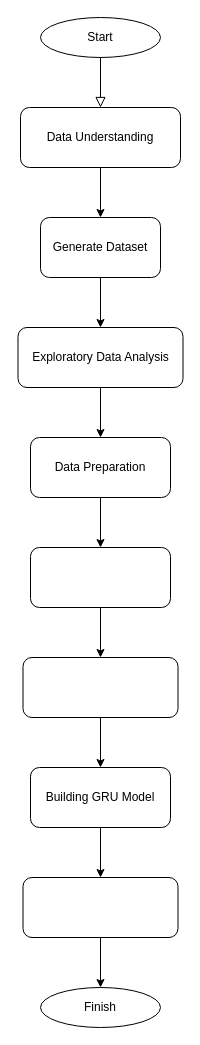
Image size: 200x1045. Some labels were removed from this diagram. The box of each missing label's shape, as (x1, y1, x2, y2) in pixels:
Building LSTM Model: (30, 546, 170, 608)
Evaluating GRU Model: (22, 876, 178, 938)
Evaluating LSTM Model: (22, 656, 178, 718)
